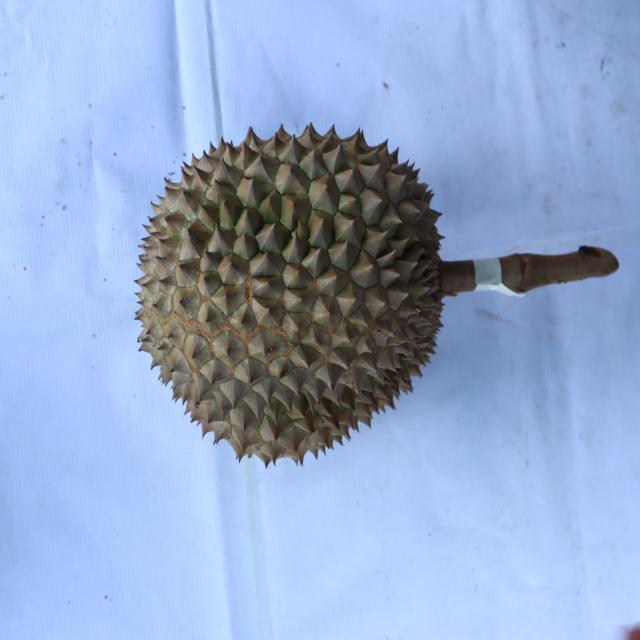mature: (133, 124, 447, 475)
